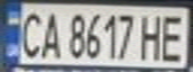1: (100, 10, 121, 60)
6: (84, 9, 103, 60)
7: (115, 10, 139, 60)
8: (63, 8, 87, 59)
A: (36, 7, 63, 60)
C: (15, 7, 45, 60)
E: (157, 10, 190, 62)
H: (136, 10, 166, 61)
